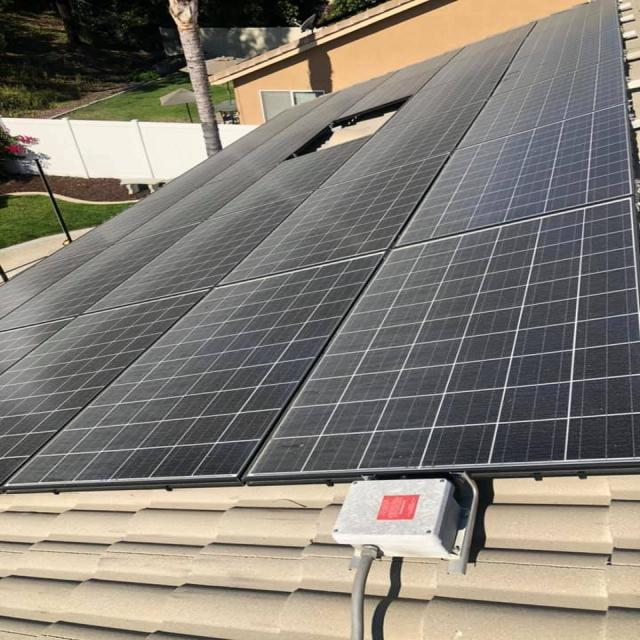dust-solar-panel: (3, 0, 637, 490)
